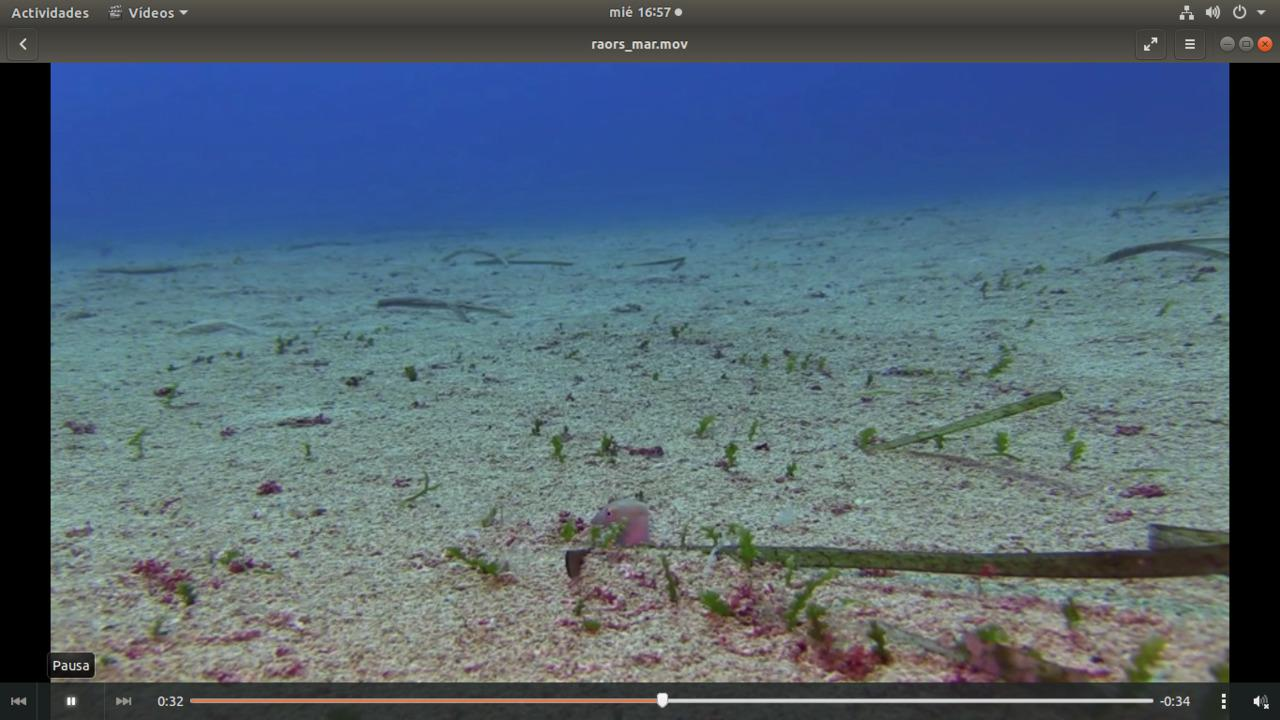raor: (570, 487, 667, 557)
